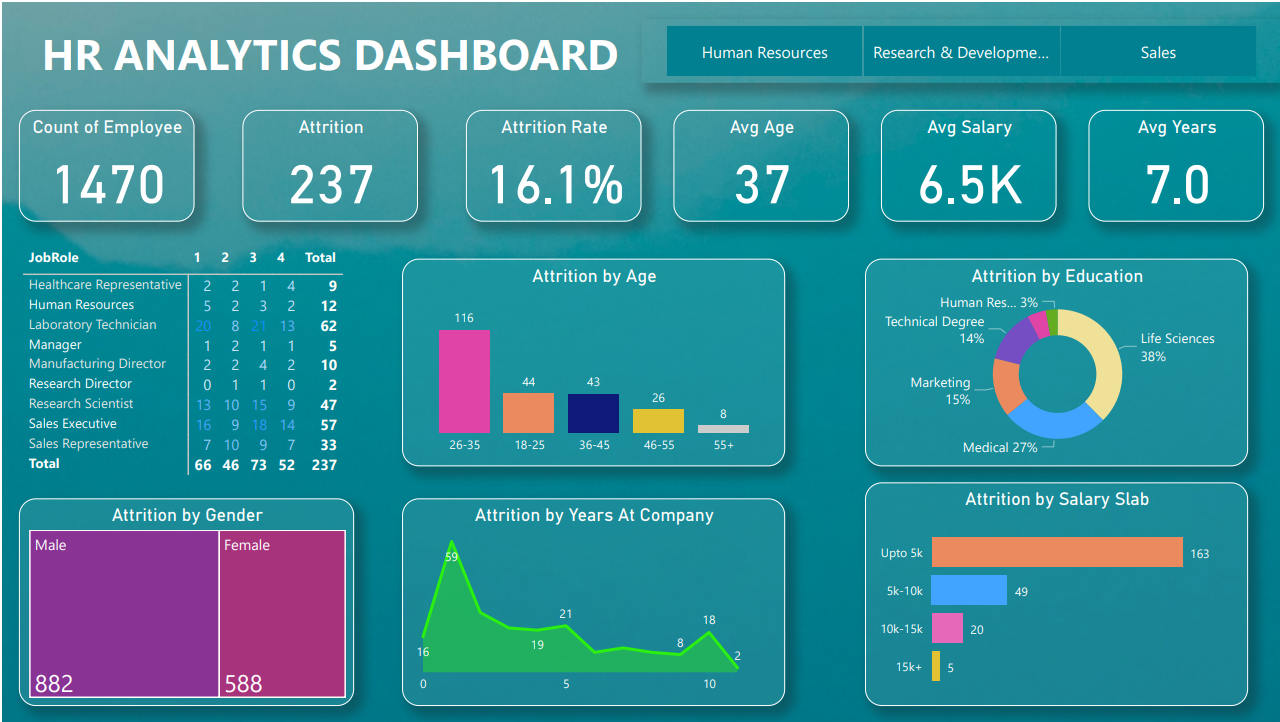

This screenshot's page, from the dashboard's own definition file:
{"tool":"powerbi","page":{"name":"Page 1","canvas":[1280,720],"ordinal":0},"visuals":[{"type":"card","title":"Count of Employee","fields":{"Values":["CountNonNull(HR_Analytics.EmpID)"]},"box":[15.5,106.9,176,112],"z":0},{"type":"card","title":"Attrition","fields":{"Values":["Sum(HR_Analytics.AttritionCount)"]},"box":[239.5,106.9,176,112],"z":1000},{"type":"card","title":"Attrition Rate","fields":{"Values":["HR_Analytics.AttritionRate"]},"box":[463.5,106.9,176,112],"z":2000},{"type":"card","title":"Avg Age","fields":{"Values":["Avg(HR_Analytics.Age)"]},"box":[671.5,106.9,176,112],"z":3000},{"type":"card","title":"Avg Years ","fields":{"Values":["Avg(HR_Analytics.YearsAtCompany)"]},"box":[1087.5,106.9,176,112],"z":4000},{"type":"card","title":"Avg Salary","fields":{"Values":["Avg(HR_Analytics.MonthlyIncome)"]},"box":[879.5,106.9,176,112],"z":5000},{"type":"donutChart","title":"Attrition by Education","fields":{"Category":["HR_Analytics.EducationField"],"Y":["Sum(HR_Analytics.AttritionCount)"]},"box":[864,256,384,208],"z":6000},{"type":"columnChart","title":"Attrition by Age","fields":{"Category":["HR_Analytics.AgeGroup"],"Y":["Sum(HR_Analytics.AttritionCount)"]},"box":[400,256,384,208],"z":7000},{"type":"pivotTable","fields":{"Rows":["HR_Analytics.JobRole"],"Columns":["HR_Analytics.JobSatisfaction"],"Values":["Sum(HR_Analytics.AttritionCount)"]},"box":[16,240,352,240],"z":8000},{"type":"barChart","title":"Attrition by Salary Slab","fields":{"Category":["HR_Analytics.SalarySlab"],"Y":["Sum(HR_Analytics.AttritionCount)"]},"box":[864,480,384,224],"z":9000},{"type":"areaChart","title":"Attrition by Years At Company","fields":{"Category":["HR_Analytics.YearsAtCompany"],"Y":["Sum(HR_Analytics.AttritionCount)"]},"box":[400,496,384,208],"z":10000},{"type":"treemap","title":"Attrition by Gender","fields":{"Group":["HR_Analytics.Gender"],"Values":["CountNonNull(HR_Analytics.AttritionCount)"]},"box":[16,496,336,208],"z":11000},{"type":"slicer","fields":{"Values":["HR_Analytics.Department"]},"box":[640,16,640,64],"z":12000},{"type":"textbox","box":[16,16,624,80],"z":13000}]}

Visuals, with their boxes in screenshot pixels (x1, y1, x2, y2), scaled from the page's 1280x720 canvas onto the 1280x722 screenshot:
"Count of Employee" card: (left=16, top=107, right=192, bottom=220)
"Attrition" card: (left=240, top=107, right=416, bottom=220)
"Attrition Rate" card: (left=464, top=107, right=640, bottom=220)
"Avg Age" card: (left=672, top=107, right=848, bottom=220)
"Avg Years " card: (left=1088, top=107, right=1264, bottom=220)
"Avg Salary" card: (left=880, top=107, right=1056, bottom=220)
"Attrition by Education" donutChart: (left=864, top=257, right=1248, bottom=465)
"Attrition by Age" columnChart: (left=400, top=257, right=784, bottom=465)
pivotTable - HR_Analytics.JobRole x HR_Analytics.JobSatisfaction: (left=16, top=241, right=368, bottom=481)
"Attrition by Salary Slab" barChart: (left=864, top=481, right=1248, bottom=706)
"Attrition by Years At Company" areaChart: (left=400, top=497, right=784, bottom=706)
"Attrition by Gender" treemap: (left=16, top=497, right=352, bottom=706)
slicer - HR_Analytics.Department: (left=640, top=16, right=1279, bottom=80)
textbox: (left=16, top=16, right=640, bottom=96)
